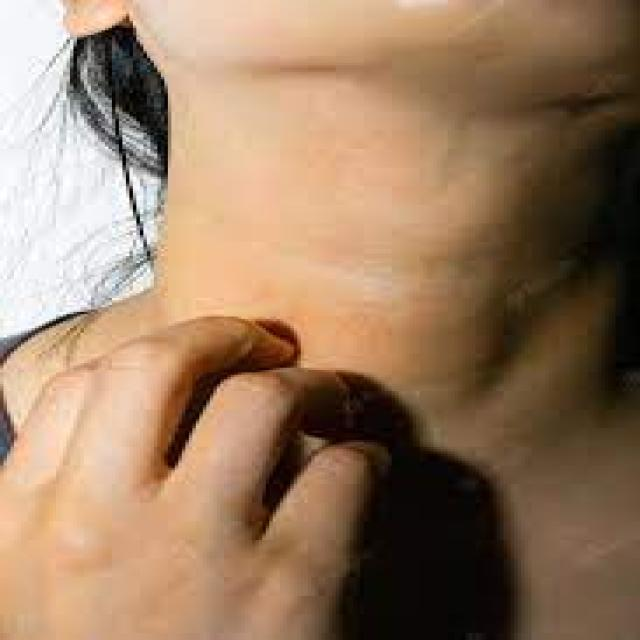Acanthosis Nigricans: (166, 120, 595, 505)
